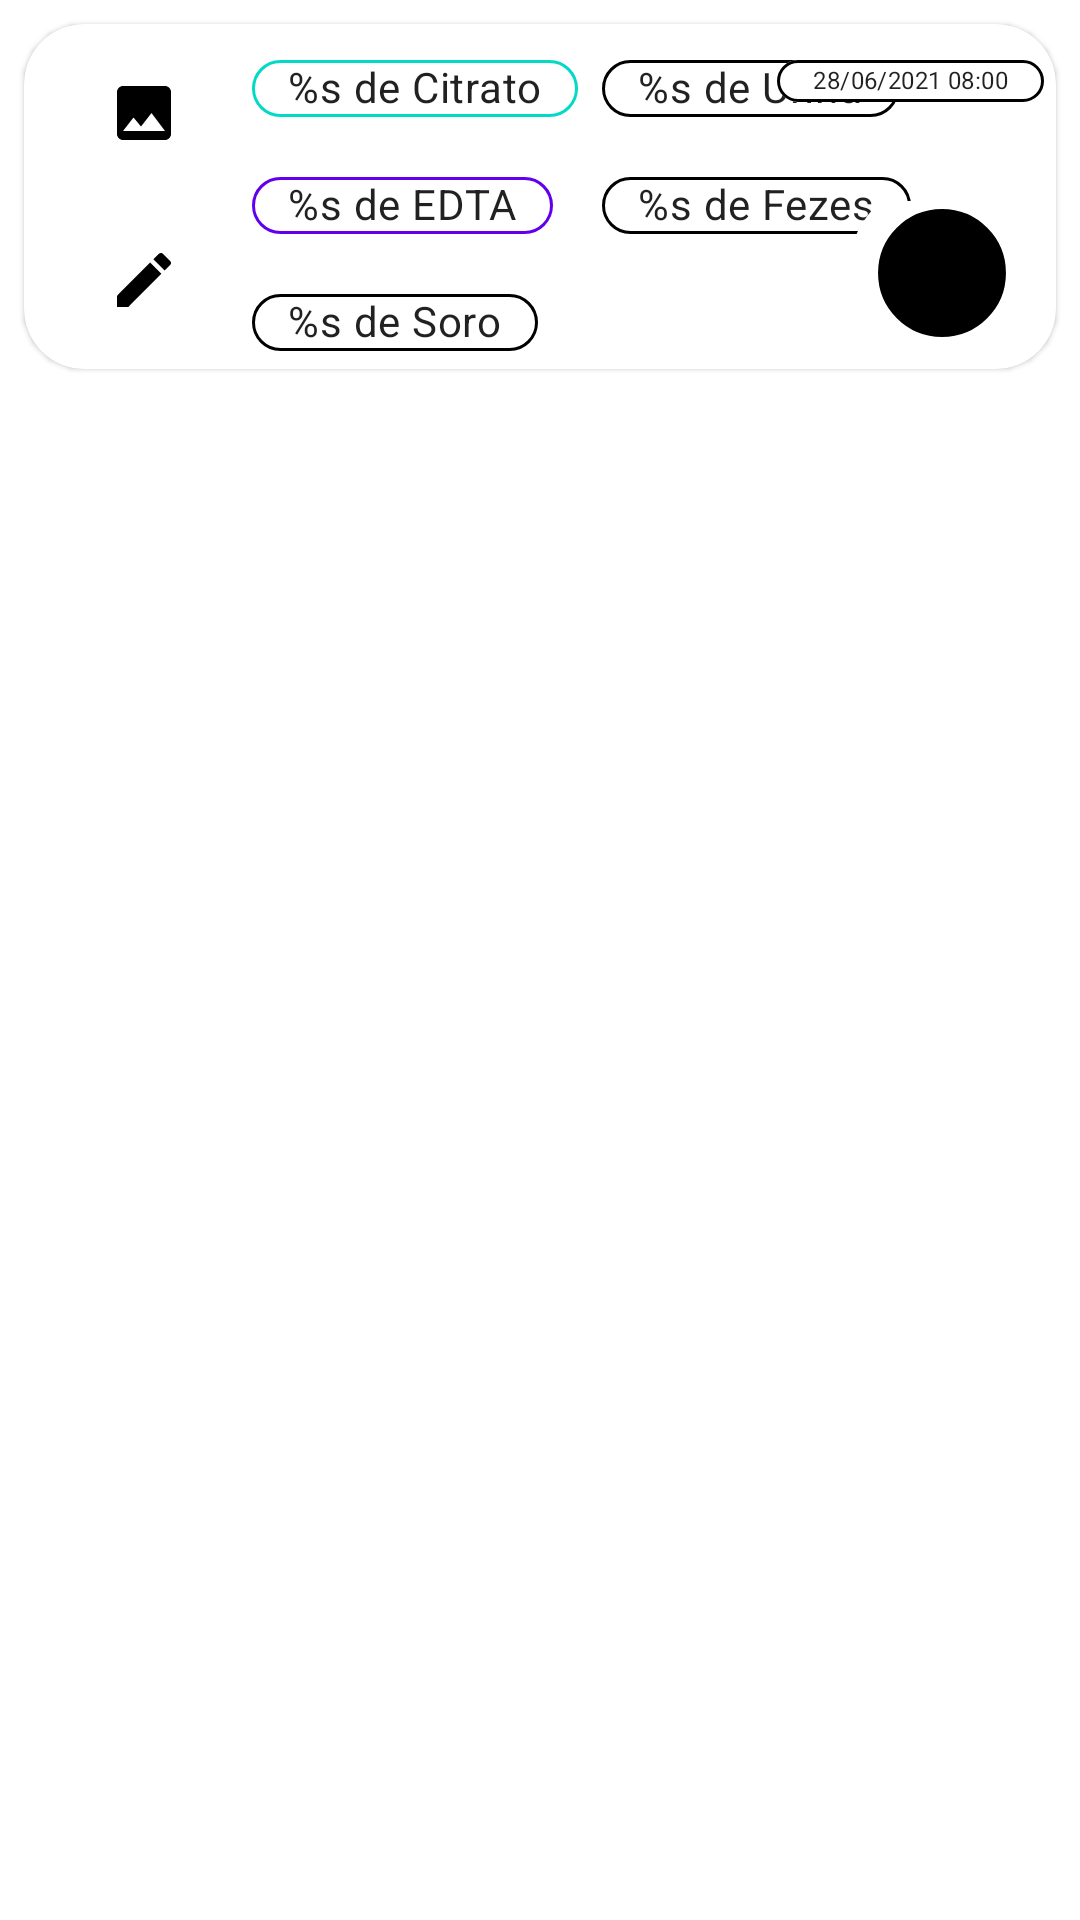

Point at icon controls on the screen. Image size 1080 × 1920, points as (x,y).
edit: (144,280)
photo: (144,113)
